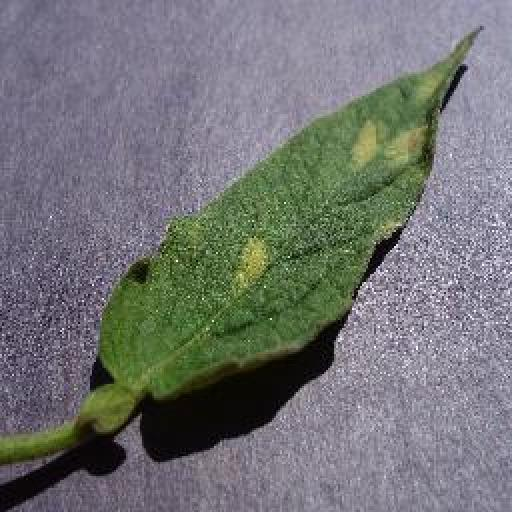Leaf Mold: (101, 26, 484, 402)
